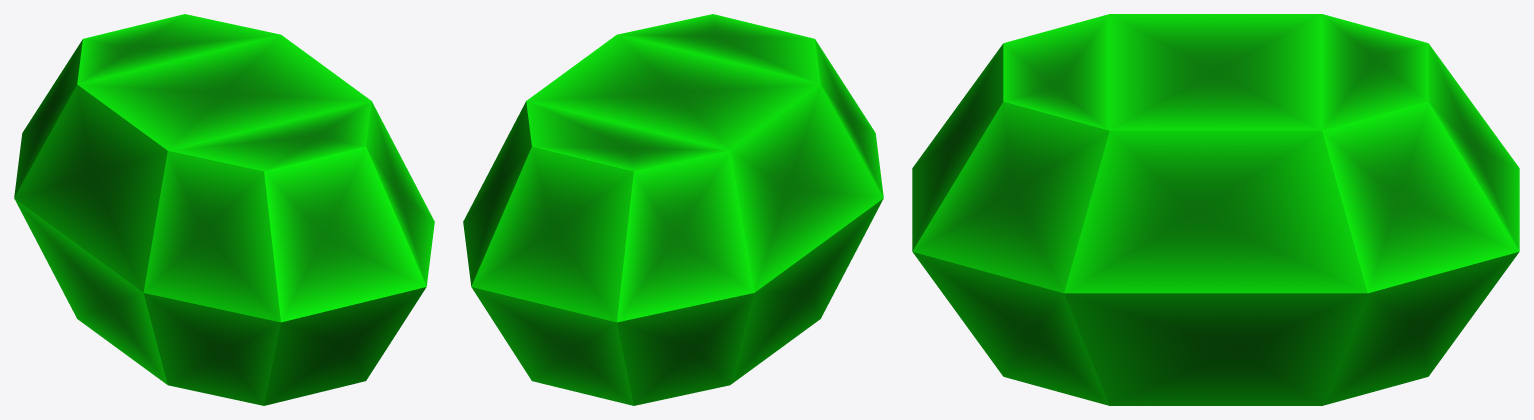
File: emerald.glb
3 views of the same model, side by side, from view 1: azimuth 30°, elevation 25°; view 2: azimuth 150°, elevation 25°; view 3: azimuth 270°, elevation 25° (orthographic). The views are drawn at different scales.
Parts seen in each view (by area): view 1: Emerald; view 2: Emerald; view 3: Emerald.
Boxes of the visible parts, x1,y1,x2,y2 form: Emerald: [14, 14, 434, 405]; Emerald: [463, 14, 883, 405]; Emerald: [912, 14, 1519, 405].
Size of the model in its own units: 0.26 by 0.2 by 0.4.
1 material, 1 textured.
